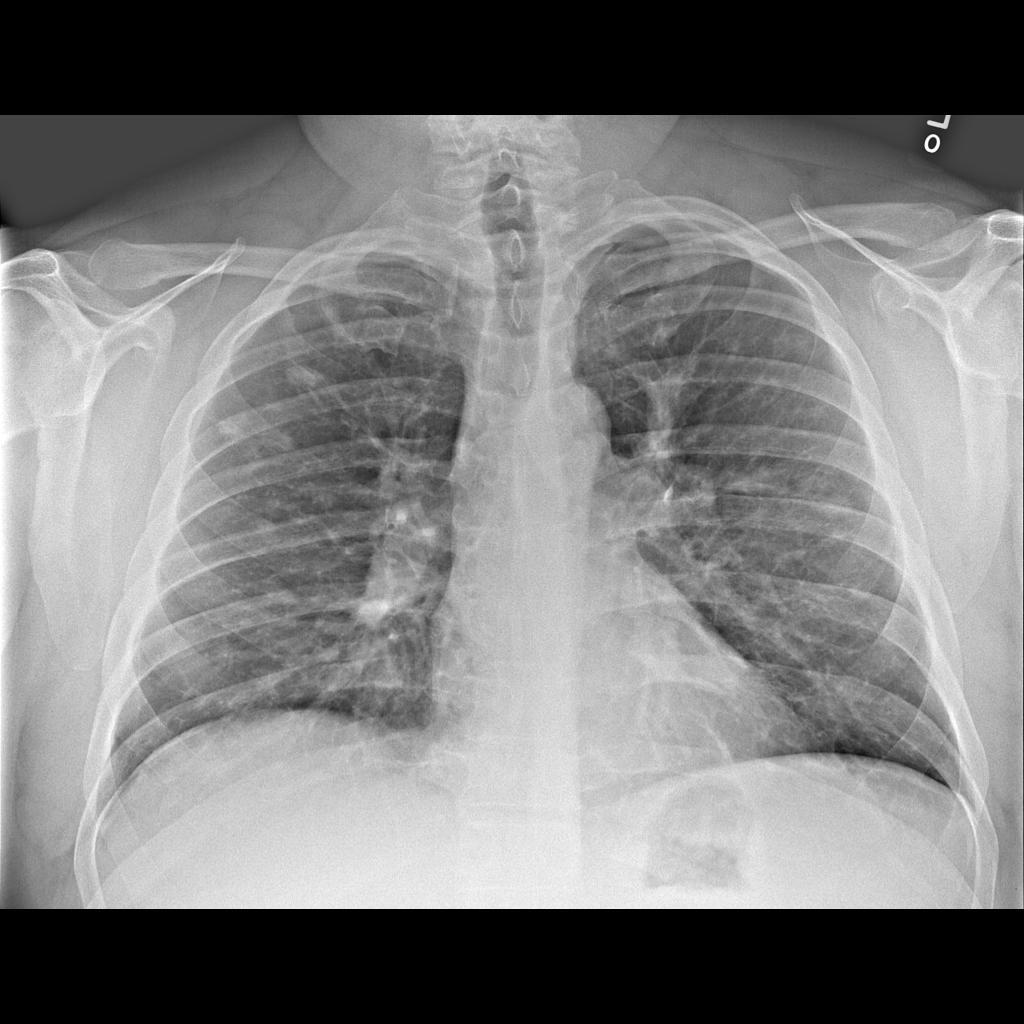Nodule: (284, 359, 329, 396), (242, 511, 284, 547), (207, 416, 249, 441)
